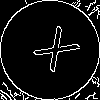X: (25, 25, 81, 81)
